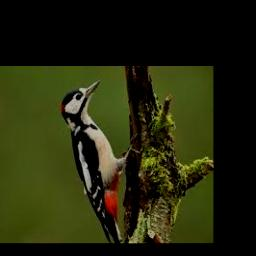Woodpecker: (62, 79, 142, 244)
